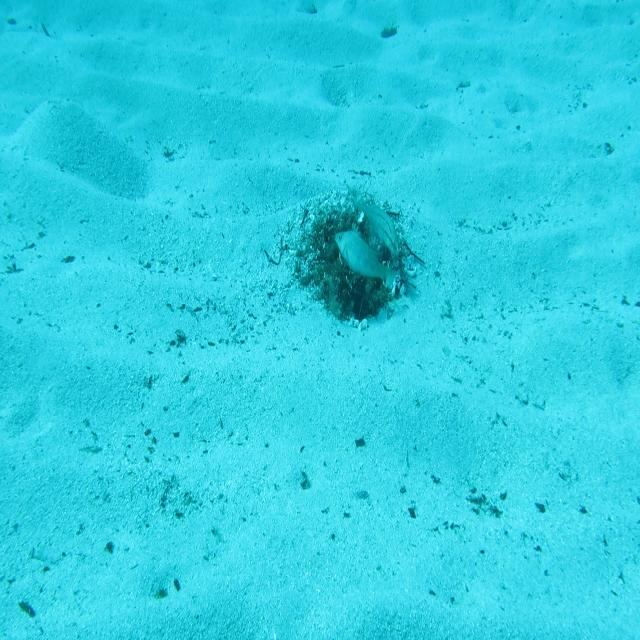DAN_CIRC: (334, 221, 398, 292)
female: (353, 194, 401, 258)
nest: (288, 188, 426, 329)
